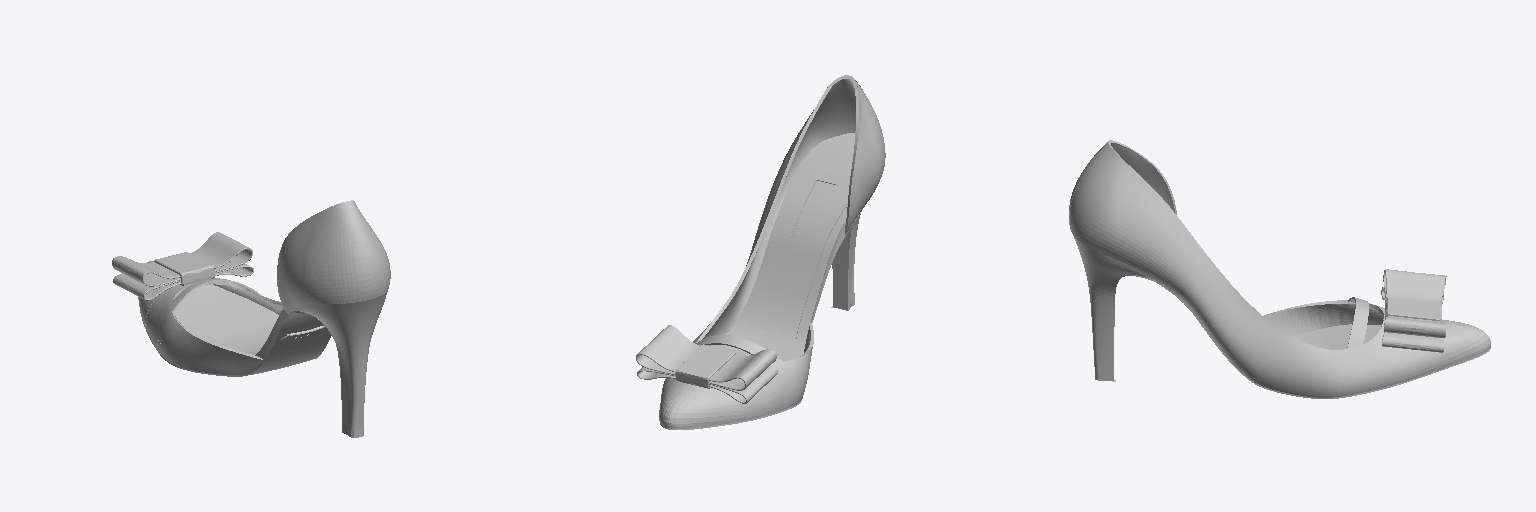
The model's file is PH375AHPLAPL.obj.
3 views of the same model, side by side, from view 1: azimuth 30°, elevation 25°; view 2: azimuth 150°, elevation 25°; view 3: azimuth 270°, elevation 25° (orthographic).
Visible parts, largest first — view 1: FR1, IN1, HE1, BB1, SO1, SH1, BB2; view 2: IN1, FR1, BB1, IB1, HG1, PT1, LI1, FR2, BB2, IL1, SO1, TO1 (+1 smaller); view 3: FR1, BB1, HE1, LI1, TO1, PT1, IN1, HG1, BB2, SO1, LS1.
Part boxes in pixels (x1,y1,x2,y2): FR1: (146, 200, 390, 374); IN1: (174, 284, 278, 354); HE1: (294, 291, 387, 429); BB1: (112, 232, 253, 300); SO1: (140, 311, 342, 424); SH1: (339, 200, 372, 301); BB2: (154, 252, 214, 285); IN1: (712, 133, 854, 361); FR1: (693, 82, 885, 417); BB1: (636, 325, 777, 403); IB1: (711, 136, 847, 393); HG1: (785, 79, 855, 185); PT1: (659, 380, 730, 428); LI1: (702, 176, 810, 352); FR2: (696, 76, 858, 356); BB2: (675, 344, 735, 388); IL1: (788, 181, 835, 253); SO1: (660, 209, 862, 429); TO1: (659, 378, 756, 428); FR1: (1069, 147, 1400, 397); BB1: (1381, 269, 1446, 352); HE1: (1073, 235, 1151, 372); LI1: (1264, 304, 1383, 335); TO1: (1401, 320, 1490, 382); PT1: (1433, 320, 1490, 370); IN1: (1292, 324, 1381, 349); HG1: (1111, 143, 1174, 212); BB2: (1385, 298, 1441, 322); SO1: (1112, 274, 1490, 398); LS1: (1347, 297, 1368, 348).
Size of the model in its own units: 82.75 by 150 by 246.